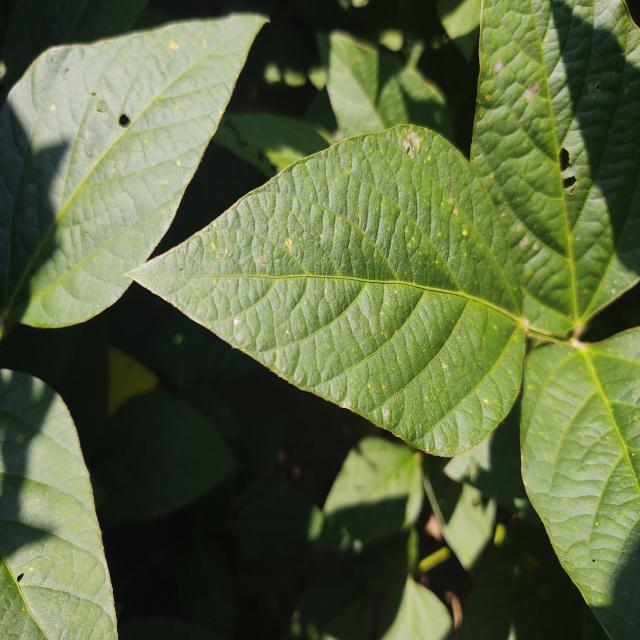Soybean: (0, 0, 640, 640)
downey_mildew: (400, 124, 436, 172), (559, 148, 578, 195), (90, 94, 112, 121), (523, 81, 539, 102), (571, 336, 588, 350), (520, 316, 532, 335), (587, 81, 601, 94), (472, 494, 485, 508), (119, 113, 131, 127), (519, 235, 530, 249), (255, 255, 265, 268), (493, 61, 503, 73), (168, 40, 178, 50), (16, 572, 25, 583), (285, 238, 292, 252), (341, 401, 350, 409), (17, 434, 24, 443), (234, 317, 241, 326), (383, 409, 389, 418), (452, 208, 458, 216), (64, 67, 70, 75), (447, 198, 453, 205), (462, 229, 468, 236), (484, 94, 491, 100), (50, 104, 56, 111), (210, 242, 215, 250), (483, 398, 489, 404), (28, 566, 34, 572), (274, 348, 279, 355), (176, 160, 181, 166), (424, 396, 429, 402), (367, 383, 372, 389), (111, 168, 116, 174), (91, 91, 96, 97), (611, 288, 616, 294), (319, 233, 323, 239), (394, 289, 398, 295), (286, 329, 290, 334), (144, 139, 148, 144), (592, 559, 596, 563)
